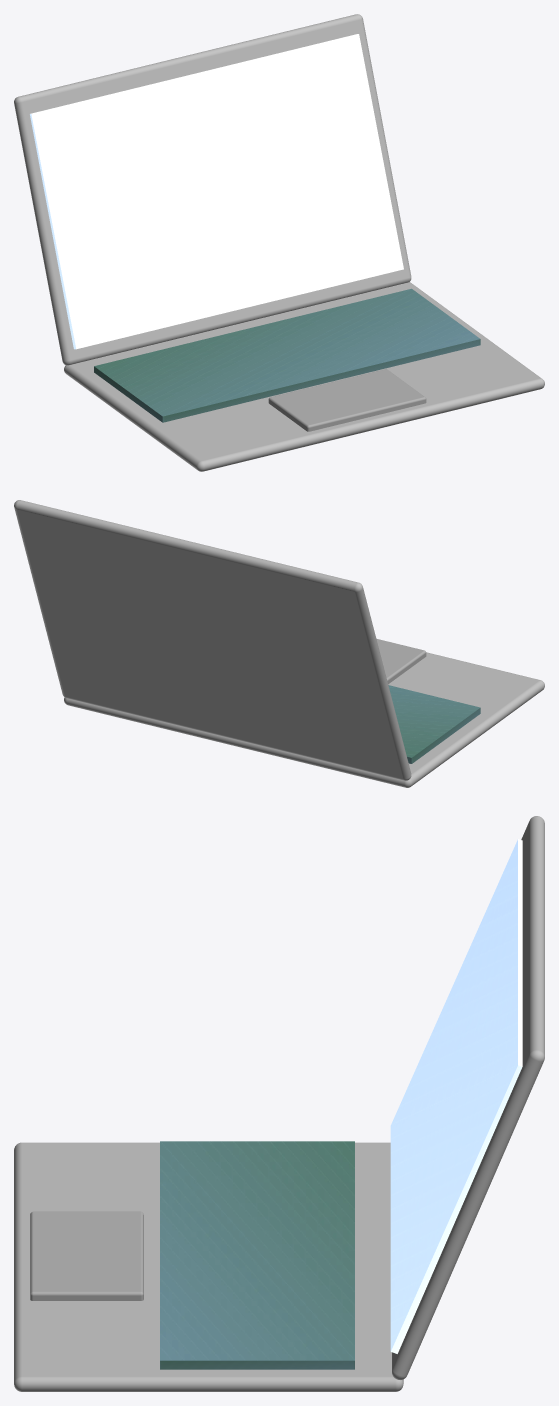
Rendered from state-default.glb.
The picture shows the model from 3 angles, top to bottom: view 1: azimuth 30°, elevation 25°; view 2: azimuth 150°, elevation 25°; view 3: azimuth 270°, elevation 25°; orthographic projection. The views are drawn at different scales.
Visible parts, largest first — view 1: assetPrim:72878a8f5ffb28-19c74452ecd:laptop-screen-display, assetPrim:72878a8f5ffb28-19c74452ecd:laptop-keyboard-area, assetPrim:72878a8f5ffb28-19c74452ecd:laptop-chassis-bottom, assetPrim:72878a8f5ffb28-19c74452ecd:laptop-lid-back, assetPrim:72878a8f5ffb28-19c74452ecd:laptop-trackpad; view 2: assetPrim:72878a8f5ffb28-19c74452ecd:laptop-lid-back, assetPrim:72878a8f5ffb28-19c74452ecd:laptop-chassis-bottom, assetPrim:72878a8f5ffb28-19c74452ecd:laptop-keyboard-area, assetPrim:72878a8f5ffb28-19c74452ecd:laptop-trackpad; view 3: assetPrim:72878a8f5ffb28-19c74452ecd:laptop-keyboard-area, assetPrim:72878a8f5ffb28-19c74452ecd:laptop-chassis-bottom, assetPrim:72878a8f5ffb28-19c74452ecd:laptop-screen-display, assetPrim:72878a8f5ffb28-19c74452ecd:laptop-lid-back, assetPrim:72878a8f5ffb28-19c74452ecd:laptop-trackpad.
Part boxes in pixels (<box>): assetPrim:72878a8f5ffb28-19c74452ecd:laptop-screen-display: <box>30,34,403,349</box>; assetPrim:72878a8f5ffb28-19c74452ecd:laptop-keyboard-area: <box>94,288,480,422</box>; assetPrim:72878a8f5ffb28-19c74452ecd:laptop-chassis-bottom: <box>64,282,544,471</box>; assetPrim:72878a8f5ffb28-19c74452ecd:laptop-lid-back: <box>14,14,411,365</box>; assetPrim:72878a8f5ffb28-19c74452ecd:laptop-trackpad: <box>268,369,426,431</box>; assetPrim:72878a8f5ffb28-19c74452ecd:laptop-lid-back: <box>14,500,411,780</box>; assetPrim:72878a8f5ffb28-19c74452ecd:laptop-chassis-bottom: <box>64,652,544,787</box>; assetPrim:72878a8f5ffb28-19c74452ecd:laptop-keyboard-area: <box>388,685,480,763</box>; assetPrim:72878a8f5ffb28-19c74452ecd:laptop-trackpad: <box>376,638,426,684</box>; assetPrim:72878a8f5ffb28-19c74452ecd:laptop-keyboard-area: <box>160,1141,354,1369</box>; assetPrim:72878a8f5ffb28-19c74452ecd:laptop-chassis-bottom: <box>14,1142,403,1391</box>; assetPrim:72878a8f5ffb28-19c74452ecd:laptop-screen-display: <box>390,839,522,1353</box>; assetPrim:72878a8f5ffb28-19c74452ecd:laptop-lid-back: <box>392,816,544,1379</box>; assetPrim:72878a8f5ffb28-19c74452ecd:laptop-trackpad: <box>30,1211,143,1300</box>.
Bounding box in the file's own units: 0.35 × 0.232 × 0.3272.
5 materials, 2 textured.
